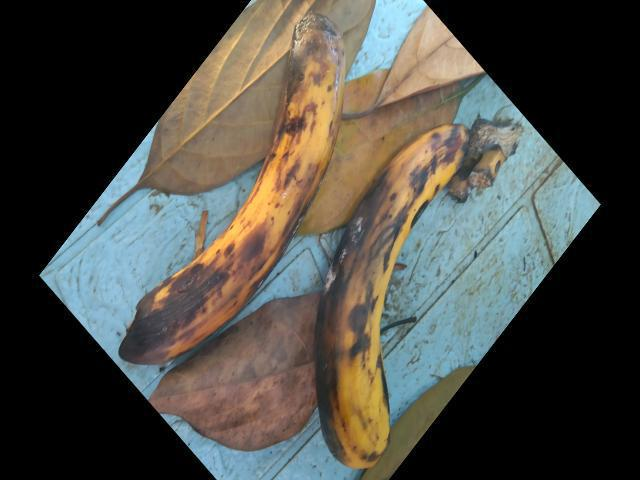rotten: (106, 9, 344, 377), (310, 116, 481, 479)
